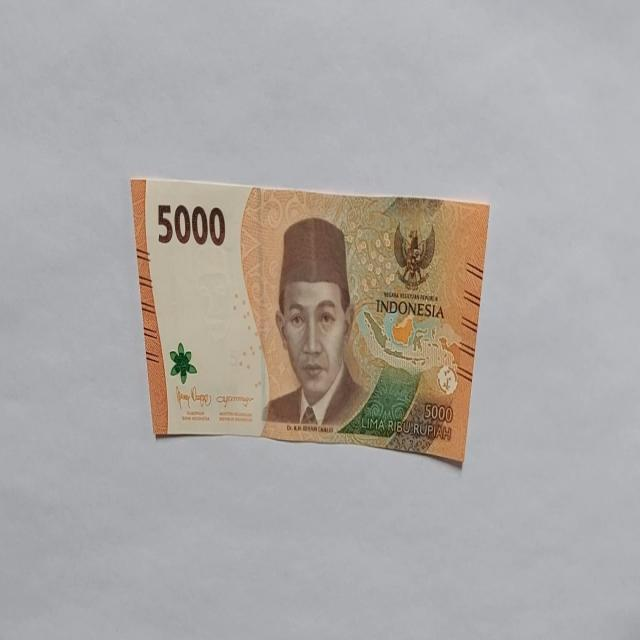lima ribu rupiah: (130, 178, 492, 469), (260, 215, 368, 430)
